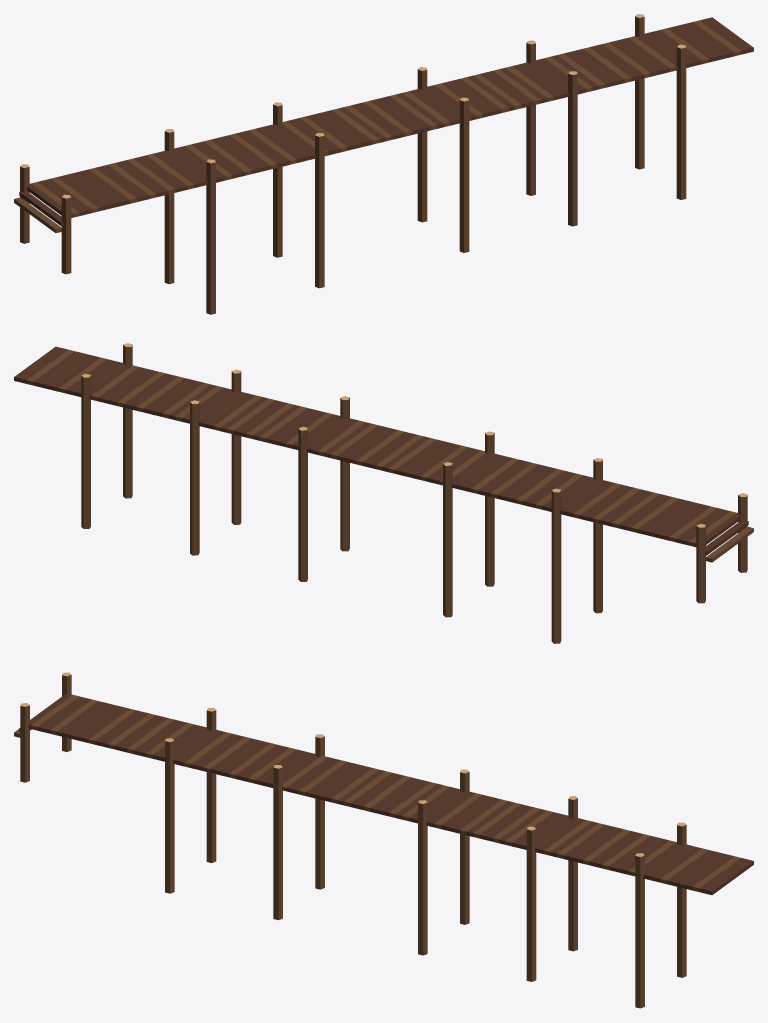
File: BridgePack1.fbx
3 views of the same model, one above another, from view 1: azimuth 30°, elevation 25°; view 2: azimuth 150°, elevation 25°; view 3: azimuth 330°, elevation 25° (orthographic).
Parts seen in each view (by area): view 1: Bridge_2, Bridge_1; view 2: Bridge_2, Bridge_1; view 3: Bridge_2, Bridge_1.
Part boxes in pixels (left/top/right/bottom): Bridge_2: left=351, top=14, right=753, bottom=252; Bridge_1: left=14, top=102, right=392, bottom=314; Bridge_2: left=14, top=343, right=417, bottom=581; Bridge_1: left=375, top=431, right=753, bottom=643; Bridge_2: left=350, top=769, right=753, bottom=1008; Bridge_1: left=14, top=672, right=391, bottom=920.
Size of the model in its own units: 19.3 by 4 by 2.22.
